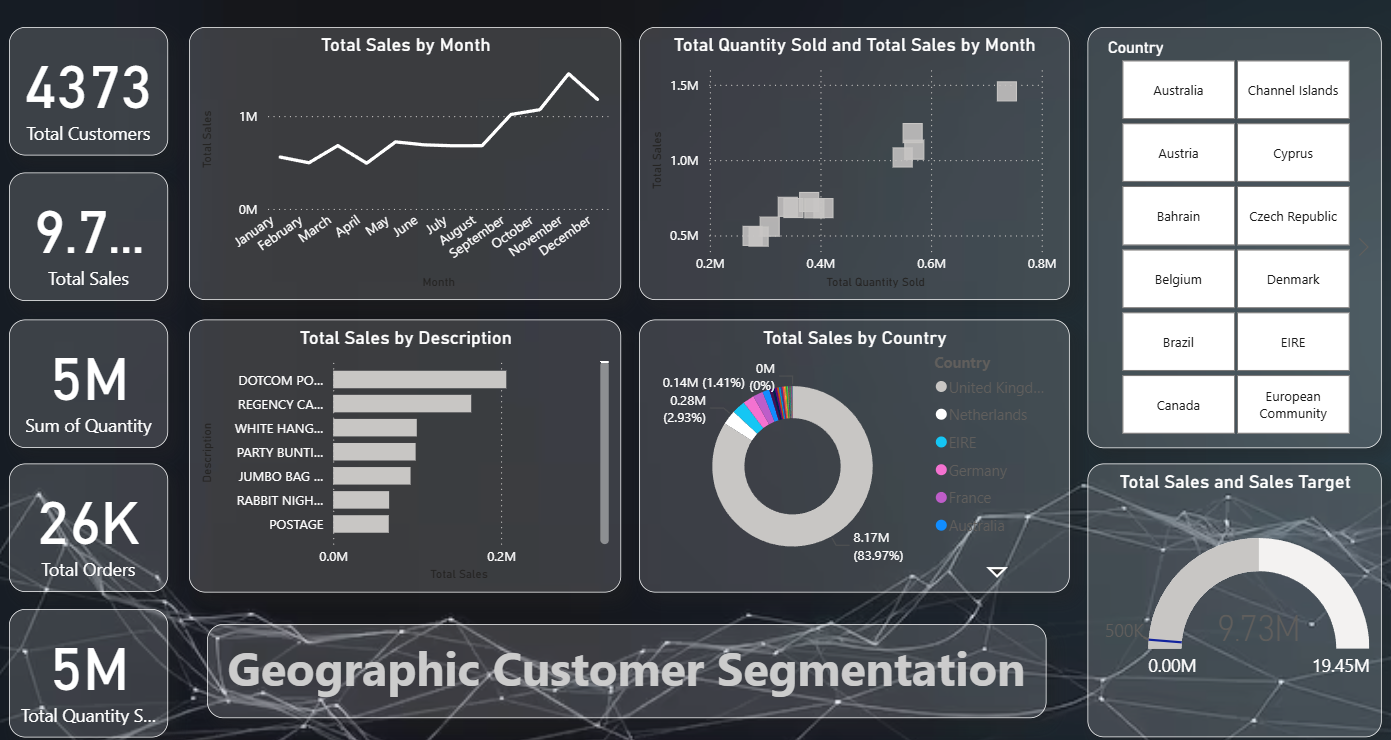

Layout of this report page (visuals, bound fields, positions):
{"tool":"powerbi","page":{"name":"Page 1","canvas":[1280,720],"ordinal":0},"visuals":[{"type":"card","fields":{"Values":["Sum(customer_segmentation.Quantity)"]},"box":[13.2,302.1,145.5,117.2],"z":0},{"type":"card","fields":{"Values":["customer_segmentation.Sales"]},"box":[13.2,167.9,145.5,117.2],"z":1000},{"type":"card","fields":{"Values":["customer_segmentation.Total Orders"]},"box":[13.2,434.3,145.5,117.2],"z":2000},{"type":"card","fields":{"Values":["customer_segmentation.Total Quantity Sold"]},"box":[13.2,566.6,145.5,117.2],"z":3000},{"type":"card","fields":{"Values":["customer_segmentation.Total Customers"]},"box":[13.2,35.6,145.5,117.2],"z":4000},{"type":"lineChart","fields":{"Category":["customer_segmentation.Date.Variation.Date Hierarchy.Month"],"Y":["customer_segmentation.Total Sales"]},"box":[177.6,35.6,395,249.5],"z":5000},{"type":"barChart","fields":{"Category":["customer_segmentation.Description"],"Y":["customer_segmentation.Total Sales"]},"box":[177.6,302.1,395,249.5],"z":6000},{"type":"slicer","fields":{"Values":["customer_segmentation.Country"]},"box":[998.9,35,268.8,384.9],"z":7000},{"type":"scatterChart","fields":{"X":["customer_segmentation.Total Quantity Sold"],"Y":["customer_segmentation.Total Sales"],"Category":["customer_segmentation.Date.Variation.Date Hierarchy.Month"]},"box":[589.6,35.9,393.1,249.5],"z":8000},{"type":"donutChart","fields":{"Category":["customer_segmentation.Country"],"Y":["customer_segmentation.Total Sales"]},"box":[589.6,302.4,393.1,249.5],"z":9000},{"type":"textbox","box":[194.1,580.6,766.7,85.9],"z":9001},{"type":"gauge","fields":{"Y":["customer_segmentation.Total Sales"],"TargetValue":["customer_segmentation.Sales Target"]},"box":[998.9,434.2,268.8,249.7],"z":9002}]}

Visuals, with their boxes on the page's 1280x720 design canvas (x1, y1, x2, y2). These are canvas units, not pixel positions in the 1391x740 screenshot, which may show the page scaled, cropped or inside an application window:
card - Sum(customer_segmentation.Quantity): [13, 302, 159, 419]
card - customer_segmentation.Sales: [13, 168, 159, 285]
card - customer_segmentation.Total Orders: [13, 434, 159, 552]
card - customer_segmentation.Total Quantity Sold: [13, 567, 159, 684]
card - customer_segmentation.Total Customers: [13, 36, 159, 153]
lineChart - customer_segmentation.Date.Variation.Date Hierarchy.Month x customer_segmentation.Total Sales: [178, 36, 573, 285]
barChart - customer_segmentation.Description x customer_segmentation.Total Sales: [178, 302, 573, 552]
slicer - customer_segmentation.Country: [999, 35, 1268, 420]
scatterChart - customer_segmentation.Total Quantity Sold x customer_segmentation.Total Sales: [590, 36, 983, 285]
donutChart - customer_segmentation.Country x customer_segmentation.Total Sales: [590, 302, 983, 552]
textbox: [194, 581, 961, 666]
gauge - customer_segmentation.Total Sales x customer_segmentation.Sales Target: [999, 434, 1268, 684]
